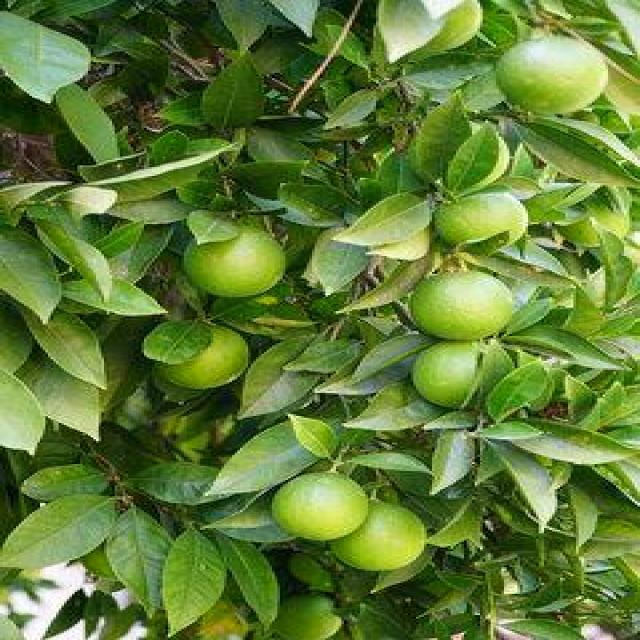Jeruk Belum Matang: (501, 38, 616, 116), (410, 270, 518, 343), (184, 226, 288, 300), (328, 503, 430, 573), (272, 471, 370, 539), (157, 324, 251, 389), (434, 194, 530, 252), (411, 343, 494, 407), (413, 0, 483, 50), (274, 594, 346, 640)
